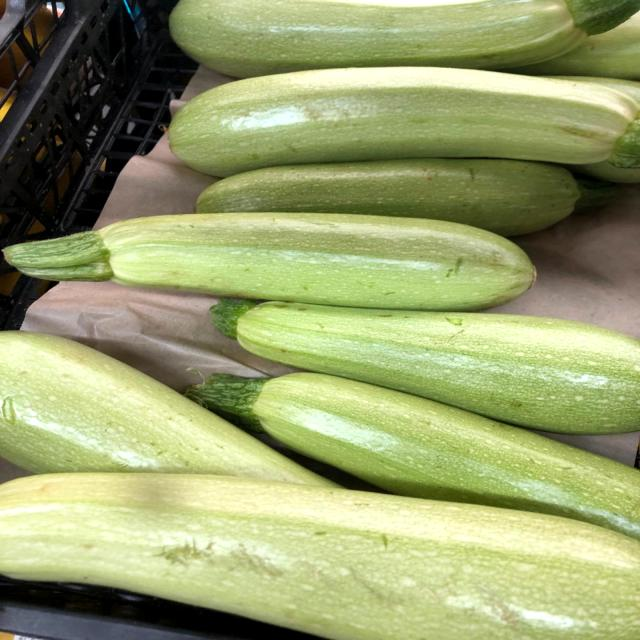zucchini: (201, 283, 640, 437), (152, 60, 640, 184), (0, 205, 541, 315)
